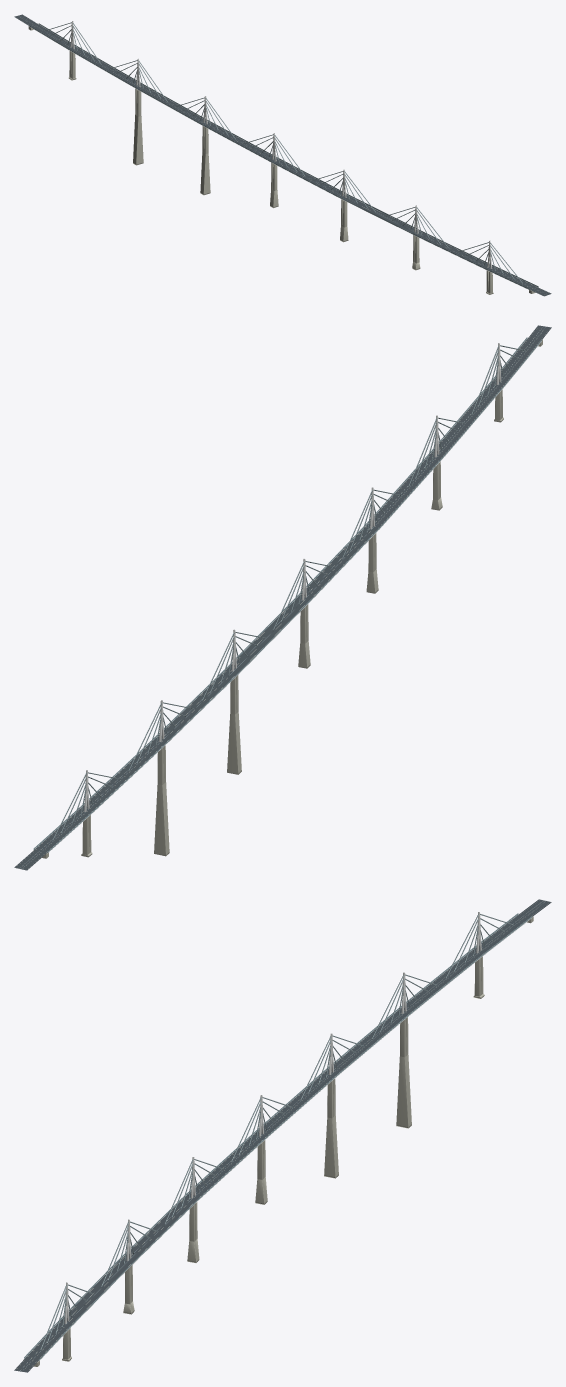
The model's file is viaduc-de-millau-far.glb.
3 renders of one model, top to bottom at view 1: azimuth 30°, elevation 25°; view 2: azimuth 150°, elevation 25°; view 3: azimuth 330°, elevation 25°, orthographic. The views are drawn at different scales.
Parts seen in each view (by area): view 1: viaduc-de-millau-0-asphalt, viaduc-de-millau-0-concrete, viaduc-de-millau-0-cable, viaduc-de-millau-0-glass, viaduc-de-millau-0-steel, viaduc-de-millau-0-rail; view 2: viaduc-de-millau-0-asphalt, viaduc-de-millau-0-concrete, viaduc-de-millau-0-cable, viaduc-de-millau-0-steel, viaduc-de-millau-0-glass, viaduc-de-millau-0-rail; view 3: viaduc-de-millau-0-asphalt, viaduc-de-millau-0-concrete, viaduc-de-millau-0-cable, viaduc-de-millau-0-steel, viaduc-de-millau-0-glass, viaduc-de-millau-0-rail.
Part boxes in pixels (bbox=[...]): viaduc-de-millau-0-asphalt: bbox=[14, 14, 551, 296]; viaduc-de-millau-0-concrete: bbox=[28, 26, 535, 294]; viaduc-de-millau-0-cable: bbox=[44, 22, 522, 283]; viaduc-de-millau-0-glass: bbox=[29, 23, 538, 289]; viaduc-de-millau-0-steel: bbox=[30, 21, 531, 290]; viaduc-de-millau-0-rail: bbox=[24, 18, 546, 294]; viaduc-de-millau-0-asphalt: bbox=[14, 325, 551, 870]; viaduc-de-millau-0-concrete: bbox=[32, 339, 542, 858]; viaduc-de-millau-0-cable: bbox=[53, 345, 525, 840]; viaduc-de-millau-0-steel: bbox=[35, 339, 541, 852]; viaduc-de-millau-0-glass: bbox=[33, 337, 541, 852]; viaduc-de-millau-0-rail: bbox=[20, 327, 545, 868]; viaduc-de-millau-0-asphalt: bbox=[14, 899, 551, 1372]; viaduc-de-millau-0-concrete: bbox=[23, 916, 533, 1366]; viaduc-de-millau-0-cable: bbox=[40, 914, 513, 1349]; viaduc-de-millau-0-steel: bbox=[24, 912, 531, 1361]; viaduc-de-millau-0-glass: bbox=[24, 913, 532, 1360]; viaduc-de-millau-0-rail: bbox=[20, 902, 542, 1370].
Bounding box in the file's own units: 319 × 388 × 2594.
